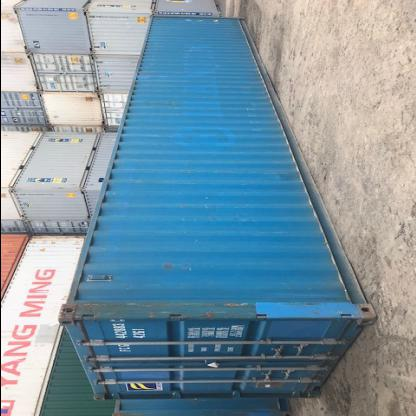Damage: (82, 300, 174, 317), (178, 302, 252, 318), (156, 256, 182, 273), (245, 100, 253, 132)
